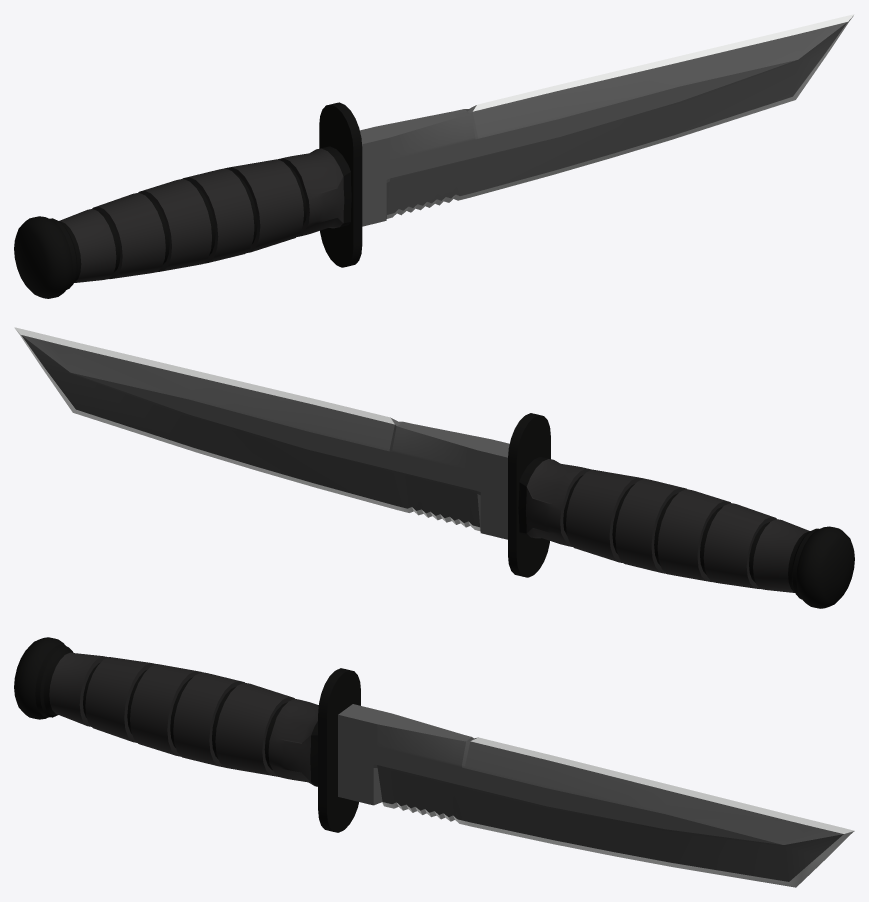
The model's file is Kabar_Tanto_Mesh.fbx.
The picture shows the model from 3 angles, top to bottom: view 1: azimuth 30°, elevation 25°; view 2: azimuth 150°, elevation 25°; view 3: azimuth 330°, elevation 25°; orthographic projection.
Visible parts, largest first — view 1: Kabar_Tanto; view 2: Kabar_Tanto; view 3: Kabar_Tanto.
Part boxes in pixels (x1=…): Kabar_Tanto: x1=14, y1=14, x2=854, y2=298; Kabar_Tanto: x1=14, y1=327, x2=854, y2=608; Kabar_Tanto: x1=14, y1=637, x2=854, y2=887.
Size of the model in its own units: 0.4362 by 0.0793 by 0.0405.
